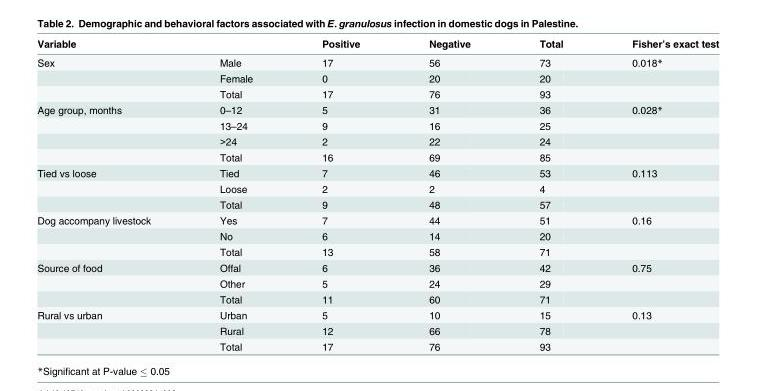table: (36, 37, 718, 351)
table column: (36, 37, 184, 351), (596, 37, 718, 351), (393, 37, 504, 351), (286, 37, 393, 351), (184, 37, 286, 351), (504, 37, 596, 351)
table column header: (36, 37, 718, 52)
table row: (36, 52, 718, 70), (36, 85, 718, 101), (36, 101, 718, 117), (36, 117, 718, 133), (36, 148, 718, 164), (36, 164, 718, 180), (36, 180, 718, 196), (36, 196, 718, 212), (36, 227, 718, 243), (36, 243, 718, 259), (36, 259, 718, 275), (36, 290, 718, 306), (36, 306, 718, 322), (36, 322, 718, 338), (36, 37, 718, 52), (36, 70, 718, 85), (36, 133, 718, 148), (36, 212, 718, 227), (36, 275, 718, 290), (36, 338, 718, 351)
table spanning cell: (36, 101, 184, 164), (36, 52, 184, 101), (36, 164, 184, 212), (36, 212, 184, 259), (36, 259, 184, 306), (36, 306, 184, 351)
